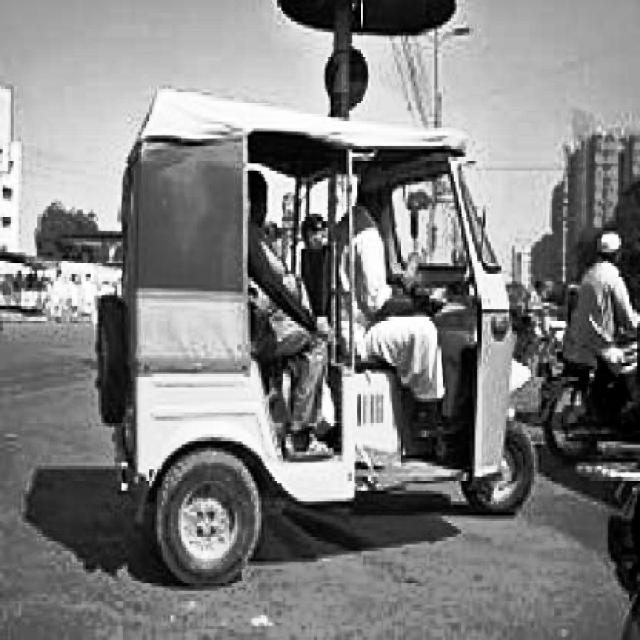Auto-Rickshaw: (96, 86, 548, 577)
